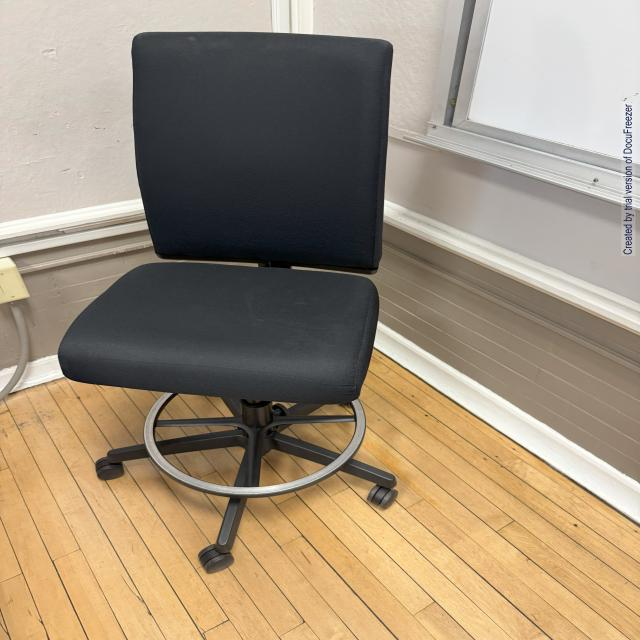chair: (38, 20, 439, 572)
